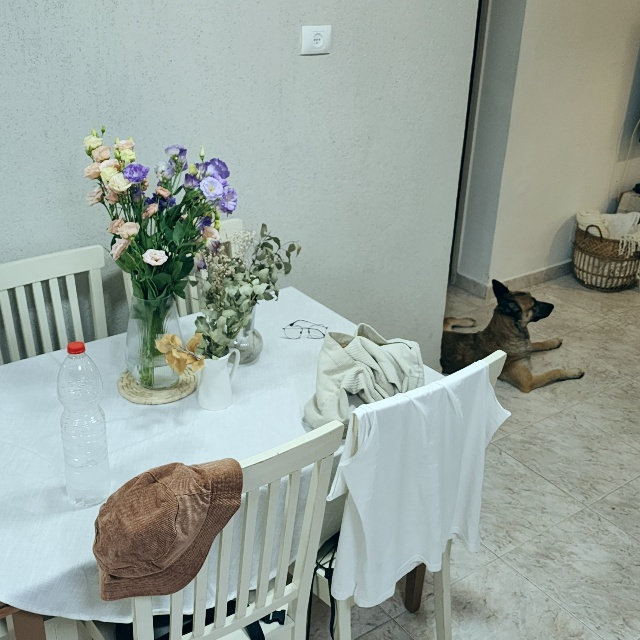glasses: (276, 316, 330, 341)
